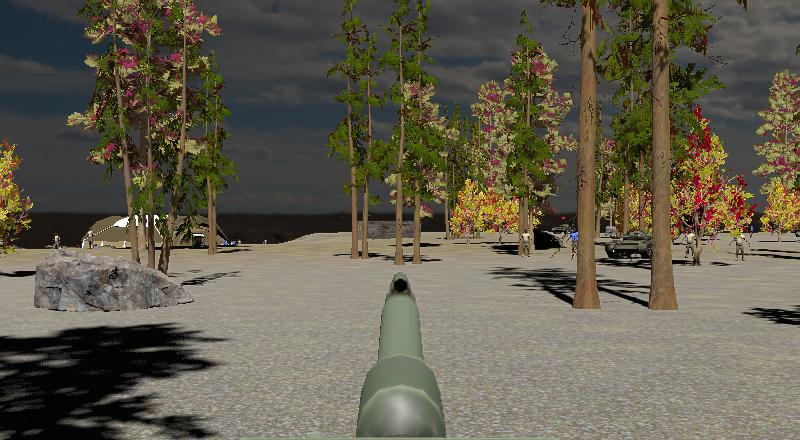Human: (566, 228, 582, 258)
Tank: (604, 230, 660, 260)
